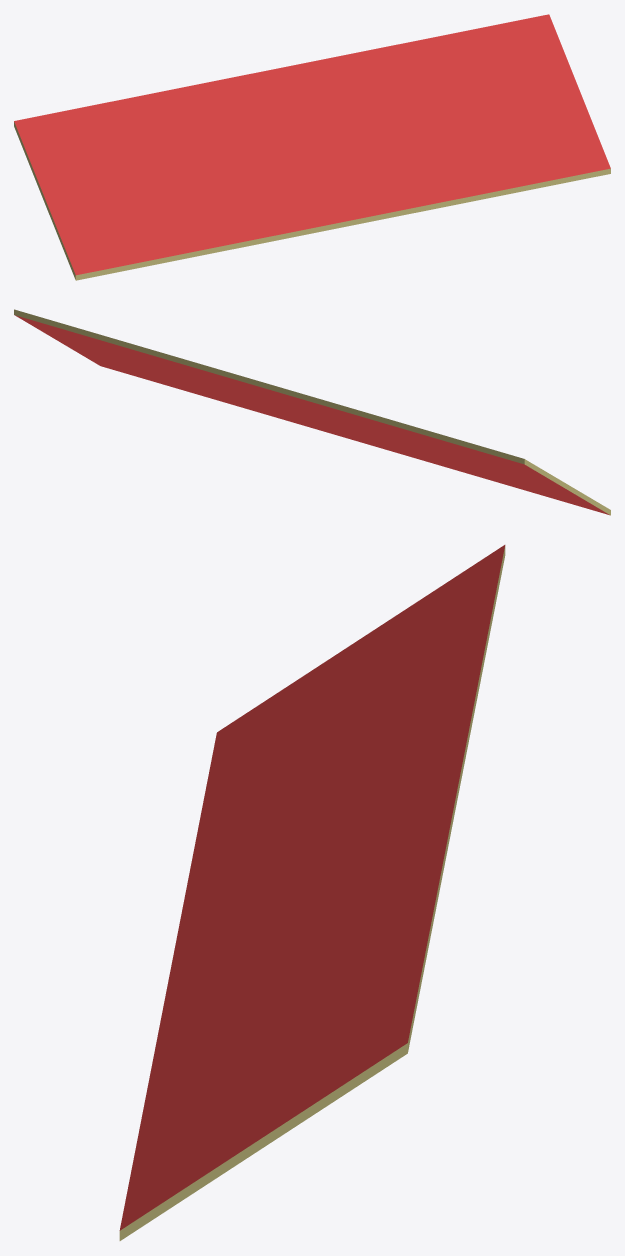
The picture shows the model from 3 angles, top to bottom: view 1: azimuth 30°, elevation 25°; view 2: azimuth 150°, elevation 25°; view 3: azimuth 270°, elevation 25°; orthographic projection. The views are drawn at different scales.
Size of the model in its own units: 10.33 by 3.31 by 1.98.
